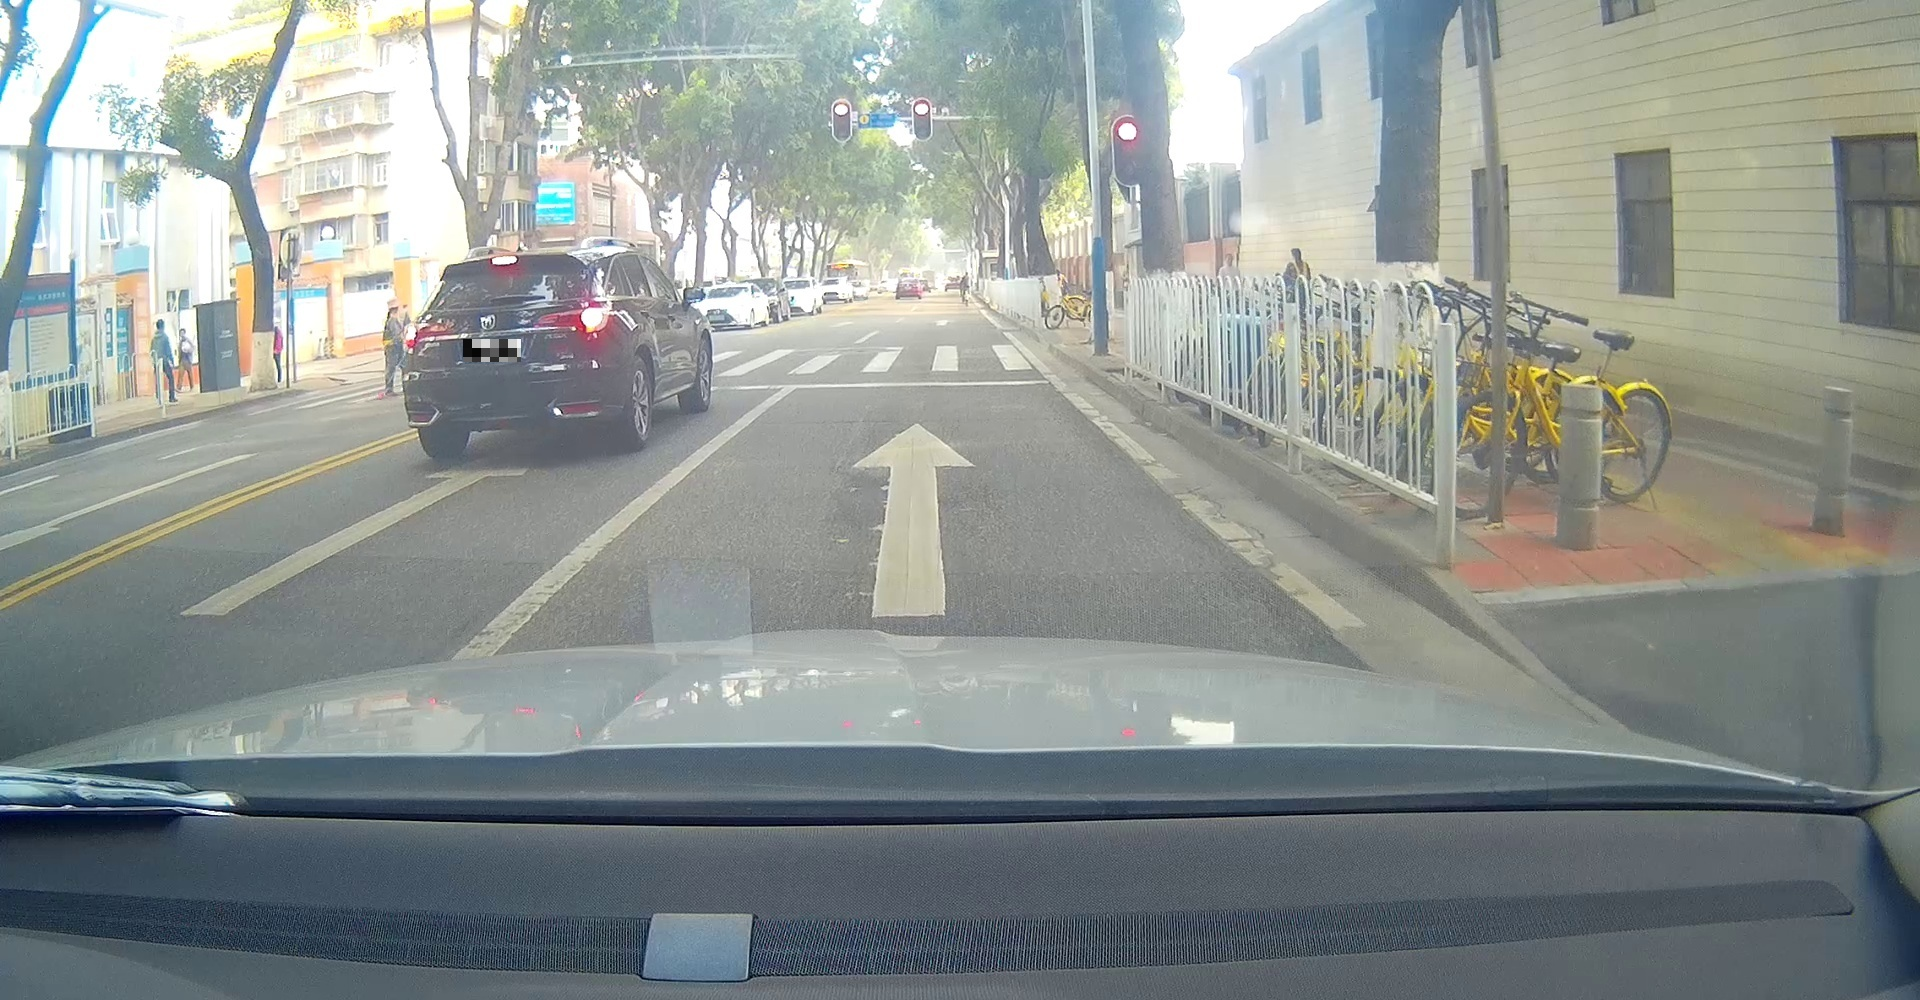L_light: (403, 322, 455, 354)
R_light: (535, 303, 610, 335)
T_light: (491, 256, 517, 264)
day-brake: (401, 247, 615, 458)
plate_1: (463, 339, 521, 362)
